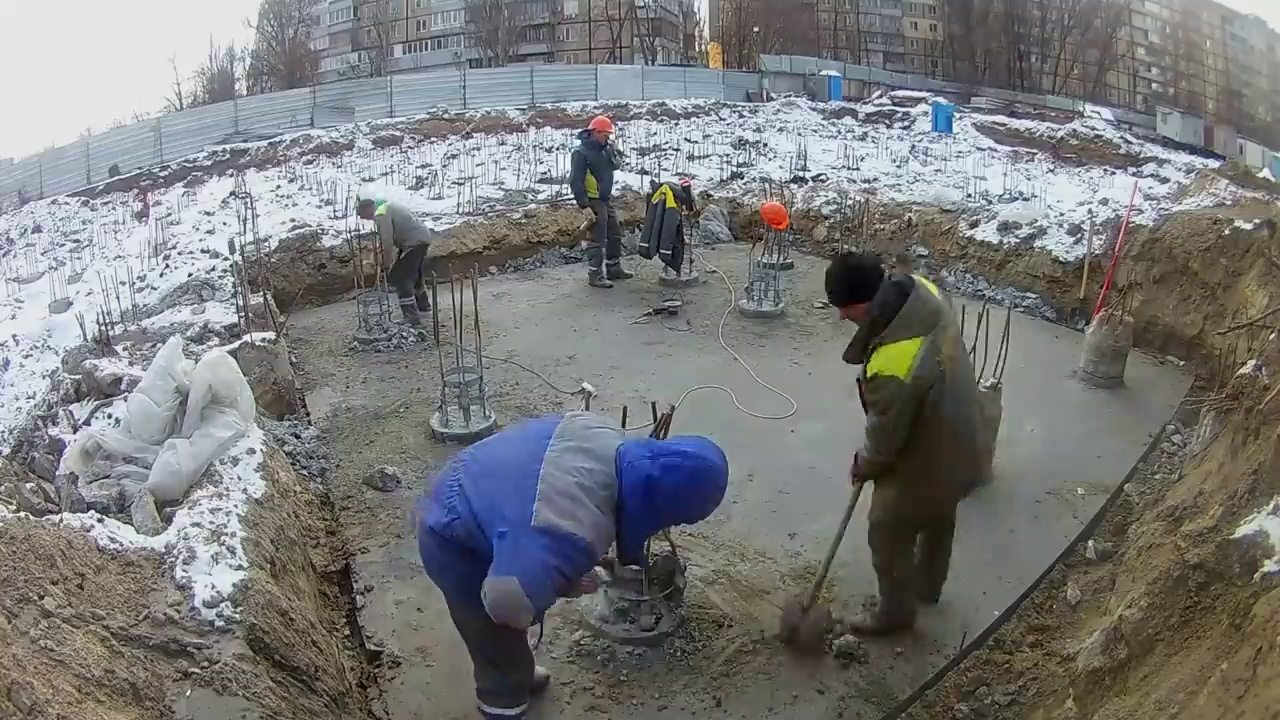helmet: (586, 117, 613, 135)
helmet-off: (611, 429, 733, 542), (824, 252, 899, 325), (355, 197, 384, 221)
helmet-on: (580, 117, 613, 154), (761, 202, 790, 230)
person: (413, 407, 734, 720), (822, 252, 979, 648), (568, 111, 635, 292), (354, 197, 433, 329)
